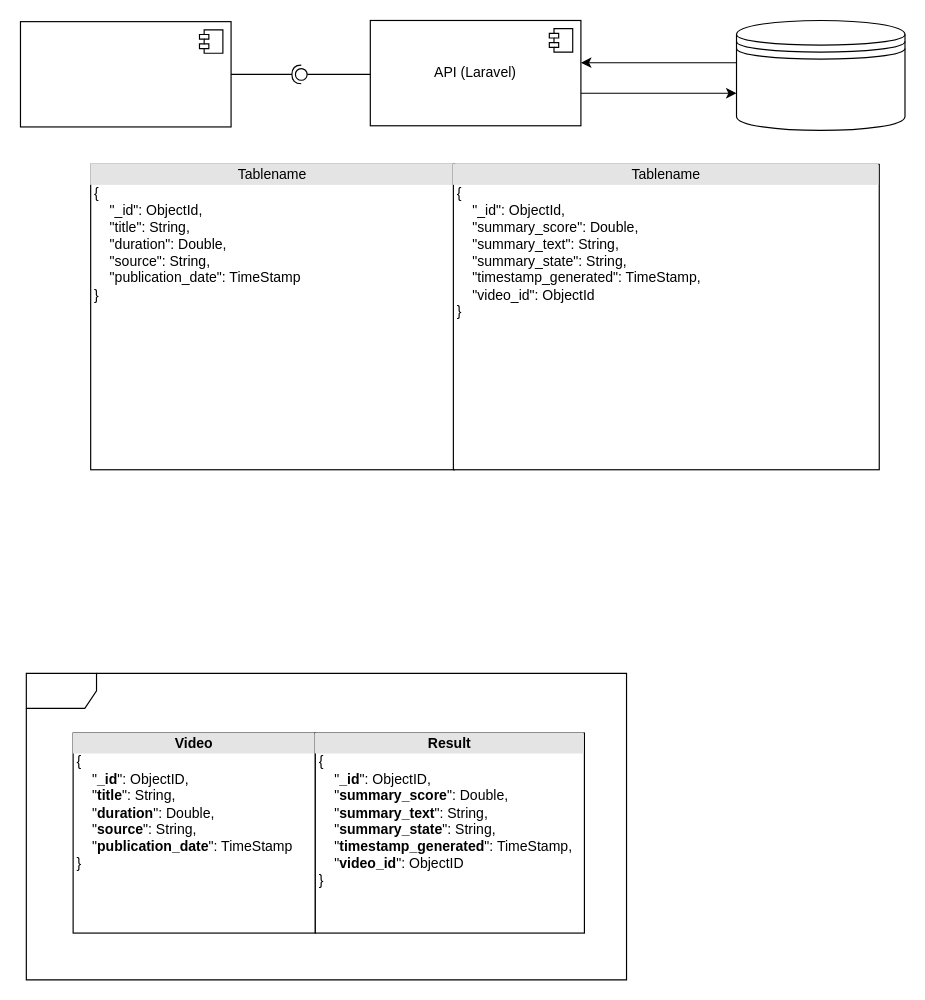
Image size: 925x1000. Some labels were removed from this diagram. The centre of each missing label's shape, as x and y in pixels:
"Aplikacja kliencka (Angular.js)" belongs at (125,73).
"Baza danych (MySQL)" belongs at (820,74).
"NoSQL" belongs at (326,826).
